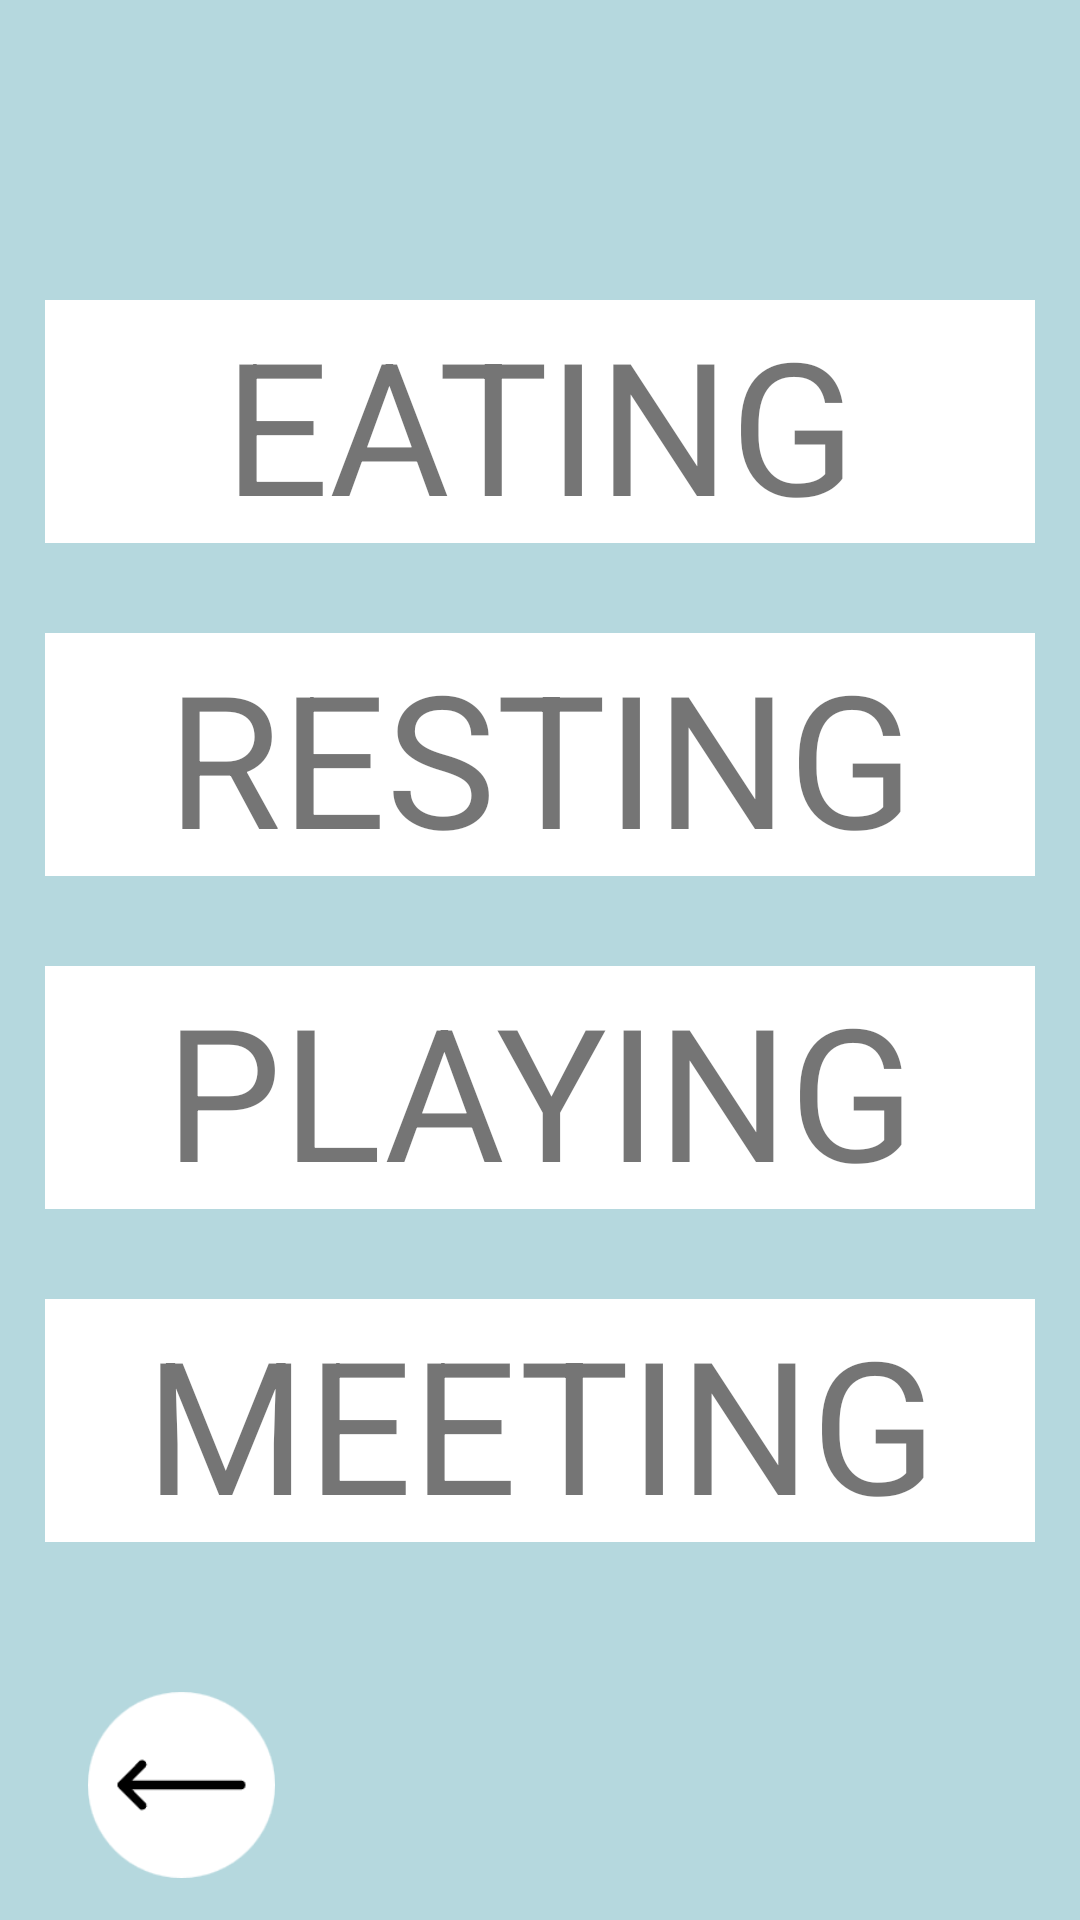

Icon bounding boxes for this 1080w x 1920h phone screenshot, format (x1, y1, x2, y2):
previous: (88, 1692, 275, 1878)
